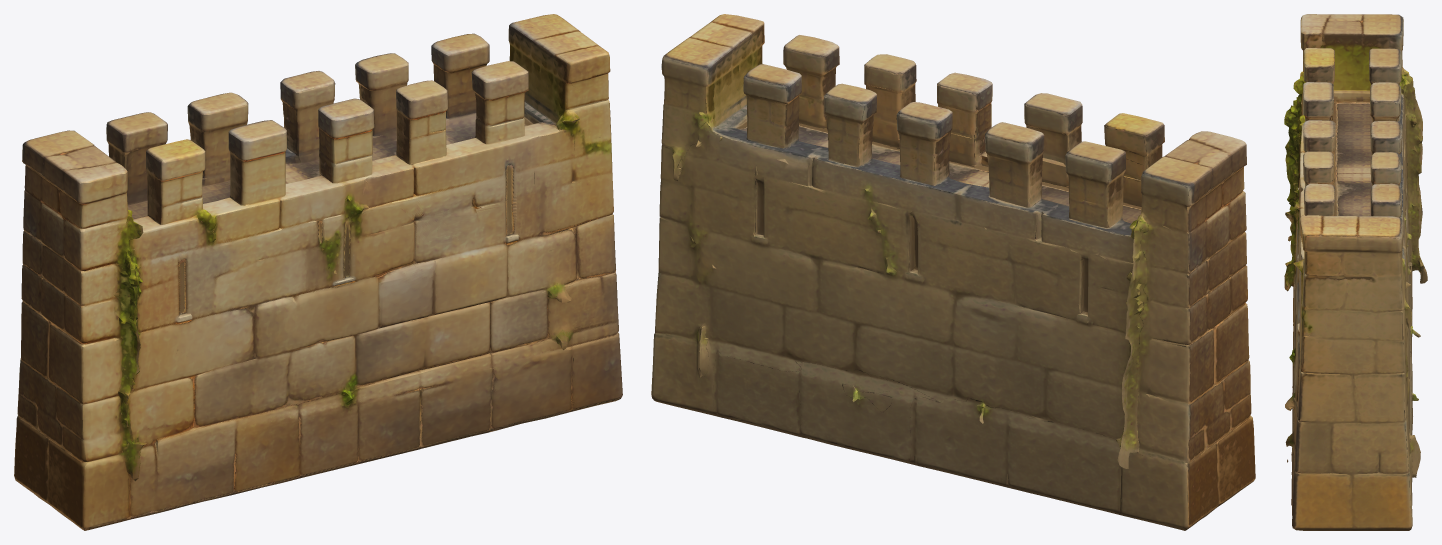
File: jer_wall_straight.glb
3 views of the same model, side by side, from view 1: azimuth 30°, elevation 25°; view 2: azimuth 150°, elevation 25°; view 3: azimuth 270°, elevation 25° (orthographic). The views are drawn at different scales.
Parts seen in each view (by area): view 1: geometry_0; view 2: geometry_0; view 3: geometry_0.
Part boxes in pixels (box(x1,y1,x2,y2)): geometry_0: box(14, 14, 622, 530); geometry_0: box(651, 14, 1255, 530); geometry_0: box(1284, 14, 1427, 530).
Size of the model in its own units: 20 by 12.28 by 5.37.
1 material, 1 textured.
